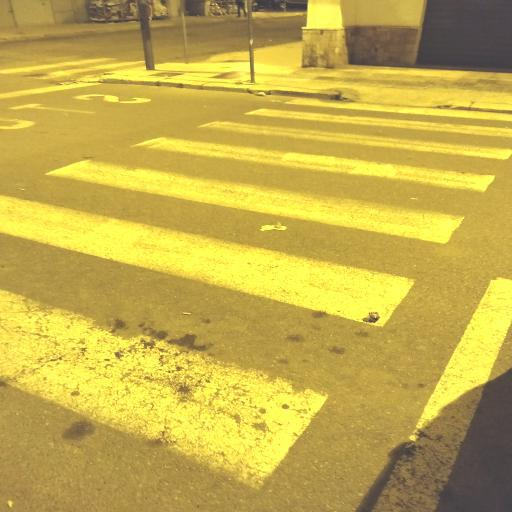crosswalk: (1, 156, 500, 335)
